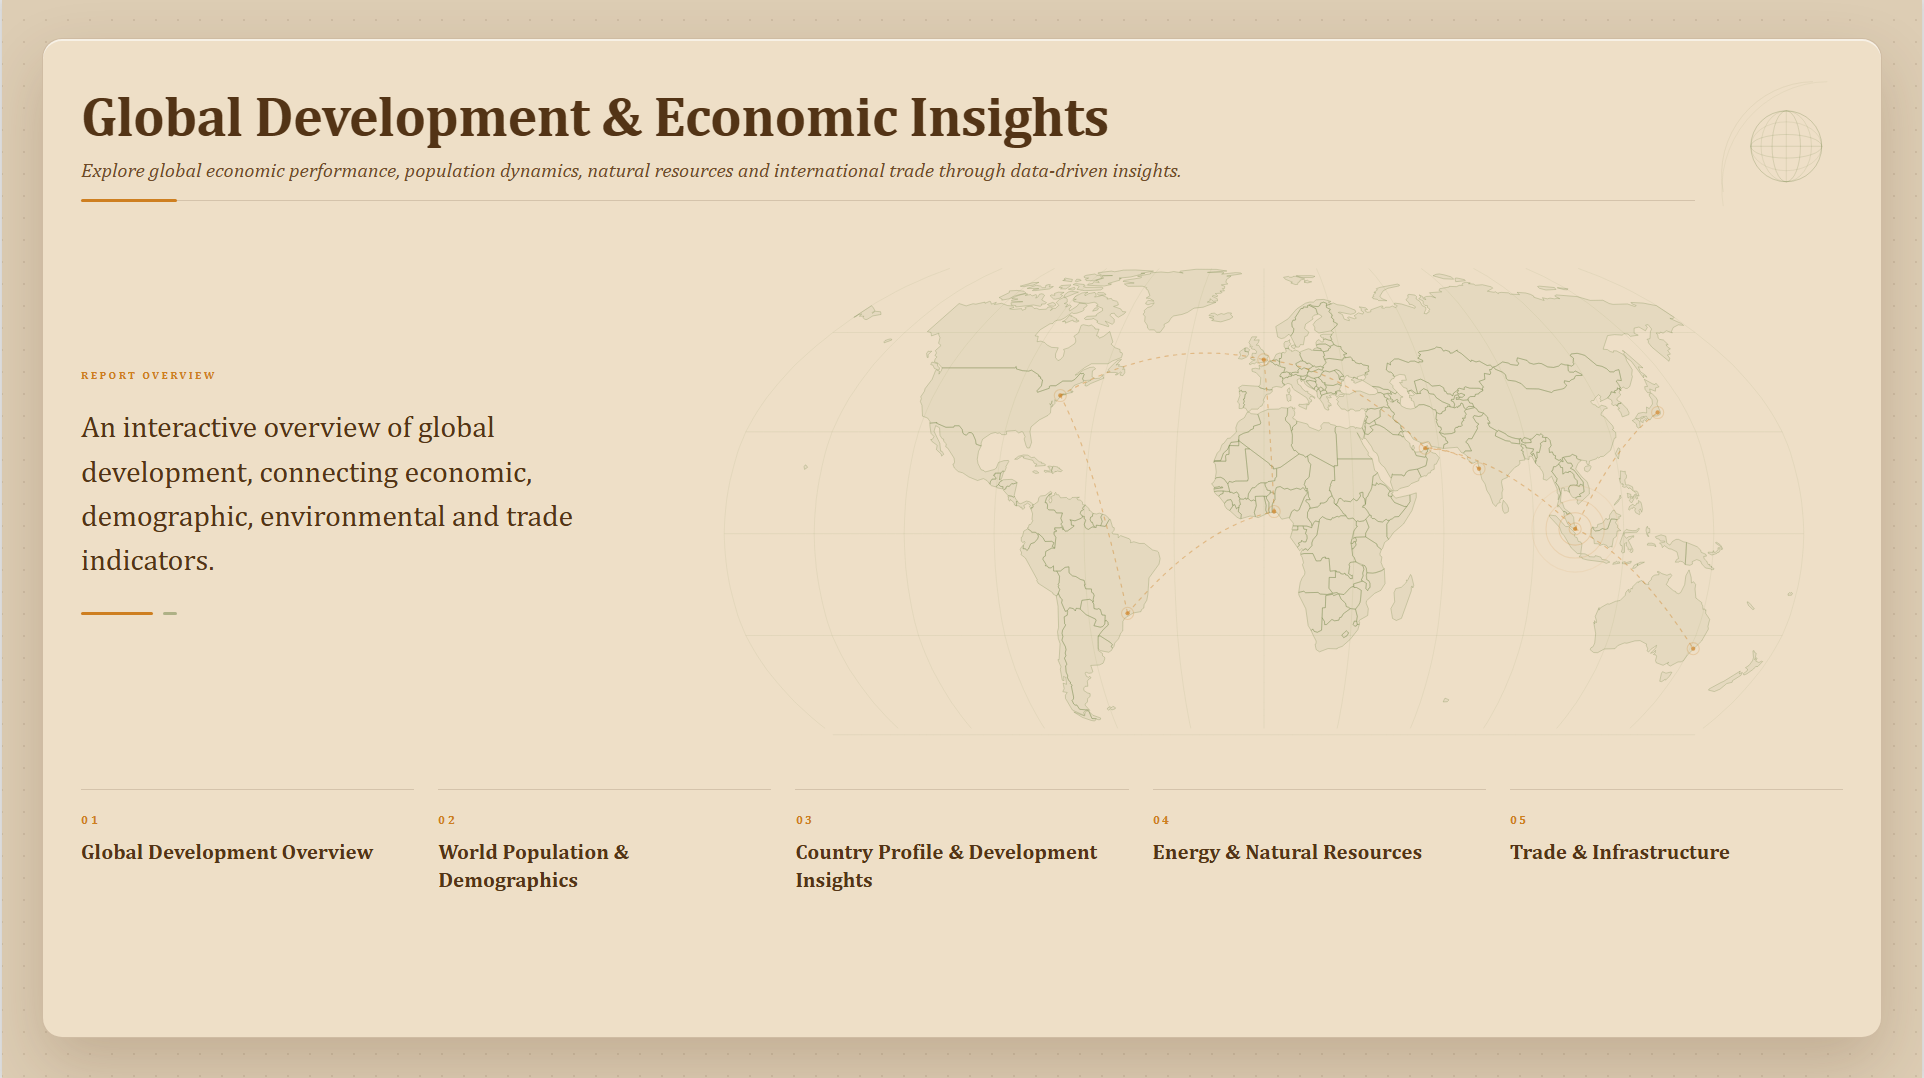

This screenshot's page, from the dashboard's own definition file:
{"tool":"powerbi","page":{"name":"Global Development Overview","canvas":[1920,1080],"ordinal":0},"visuals":[{"type":"pageNavigator","box":[75.6,830,1712.2,76.7],"z":0}]}

Visuals, with their boxes in screenshot pixels (x1, y1, x2, y2), scaled from the page's 1920x1080 canvas onto the 1924x1078 screenshot:
pageNavigator: detection(76, 828, 1792, 905)
